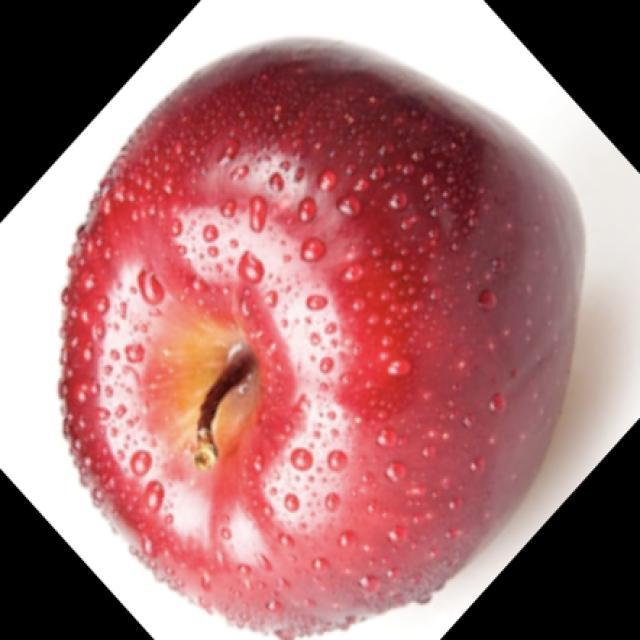Apple: (56, 35, 587, 639)
